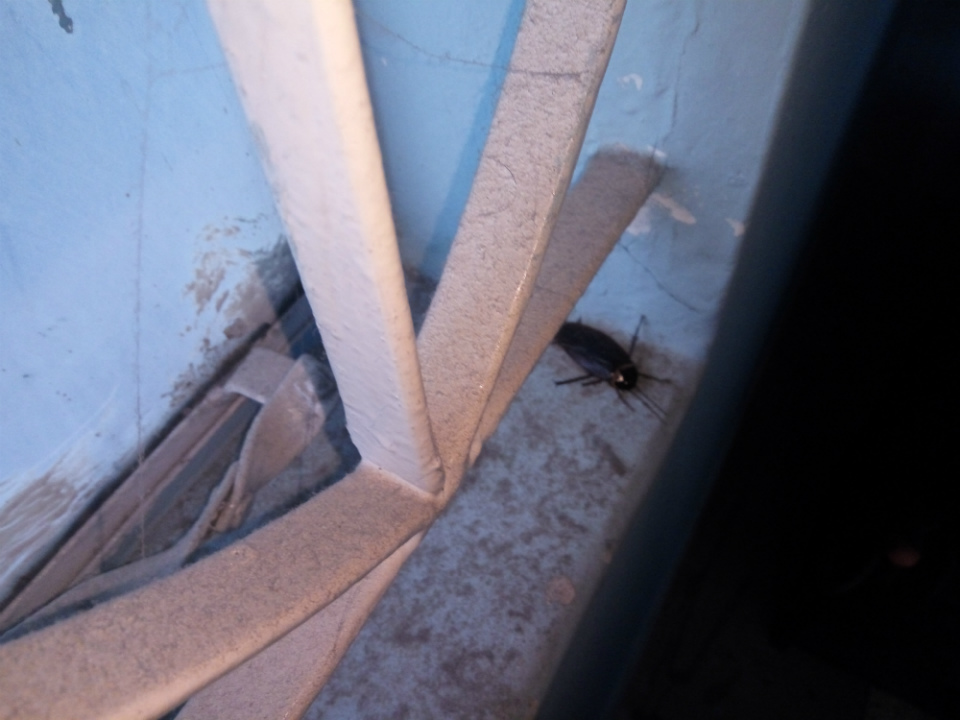cockroach: (535, 292, 676, 411)
